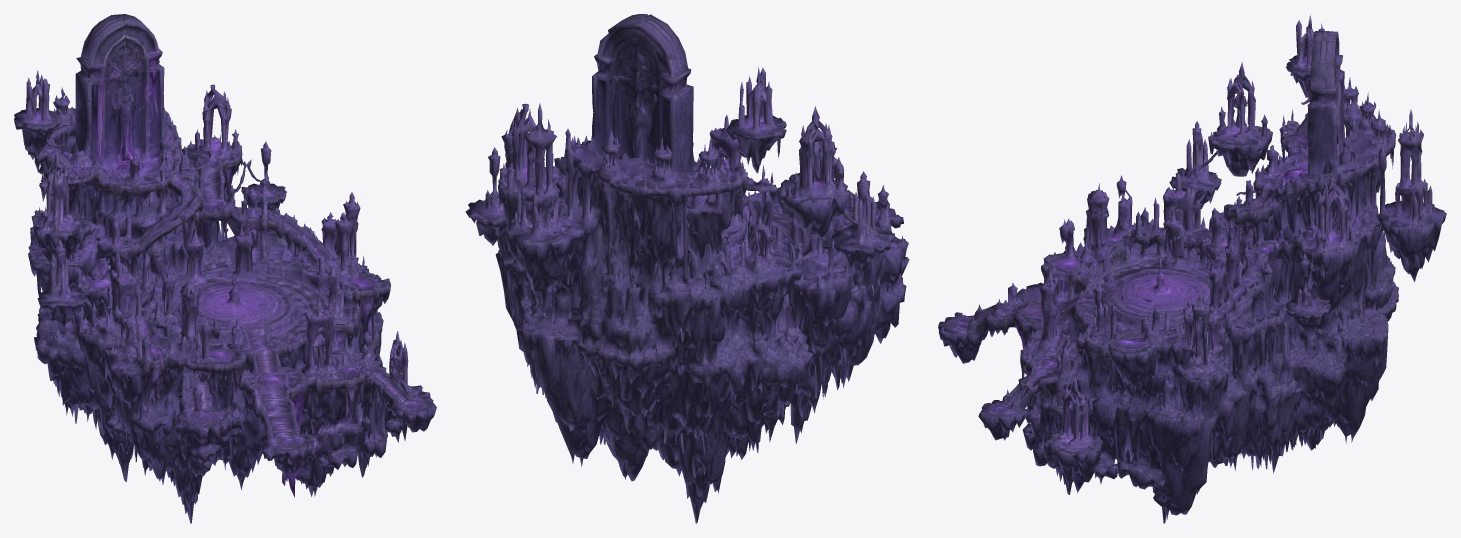
File: Violet_Sanctum_of_the.glb
3 views of the same model, side by side, from view 1: azimuth 30°, elevation 25°; view 2: azimuth 150°, elevation 25°; view 3: azimuth 270°, elevation 25° (orthographic). The views are drawn at different scales.
Parts seen in each view (by area): view 1: Violet_Sanctum_of_the; view 2: Violet_Sanctum_of_the; view 3: Violet_Sanctum_of_the.
Part boxes in pixels (x1,y1,x2,y2): Violet_Sanctum_of_the: (14, 14, 436, 523); Violet_Sanctum_of_the: (465, 14, 909, 523); Violet_Sanctum_of_the: (938, 14, 1446, 523).
Size of the model in its own units: 1.46 by 1.85 by 1.9.
Materials: 1 (1 with a texture image).
